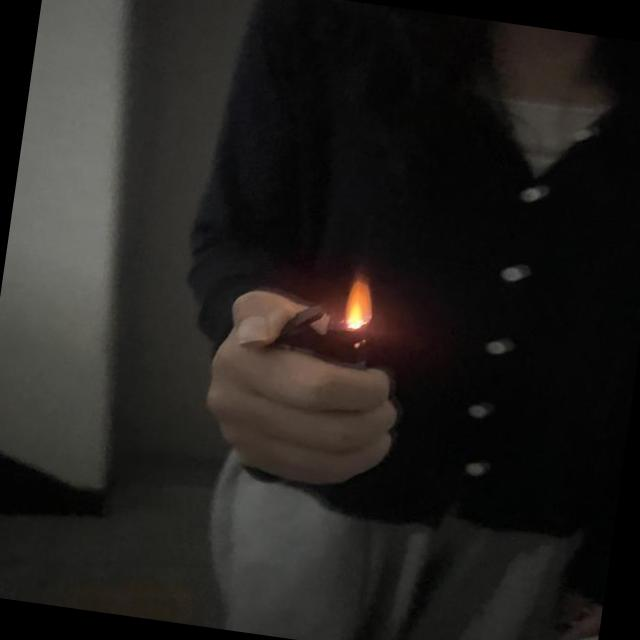Fire: (342, 270, 380, 335)
